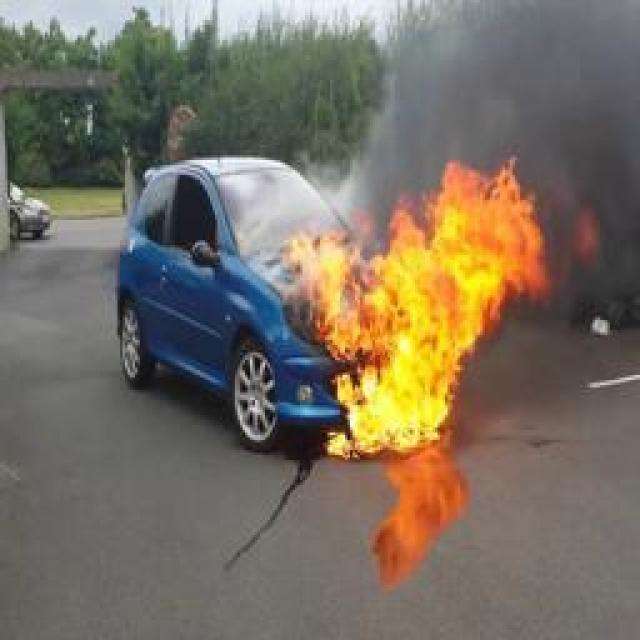Fire: (284, 160, 552, 455)
